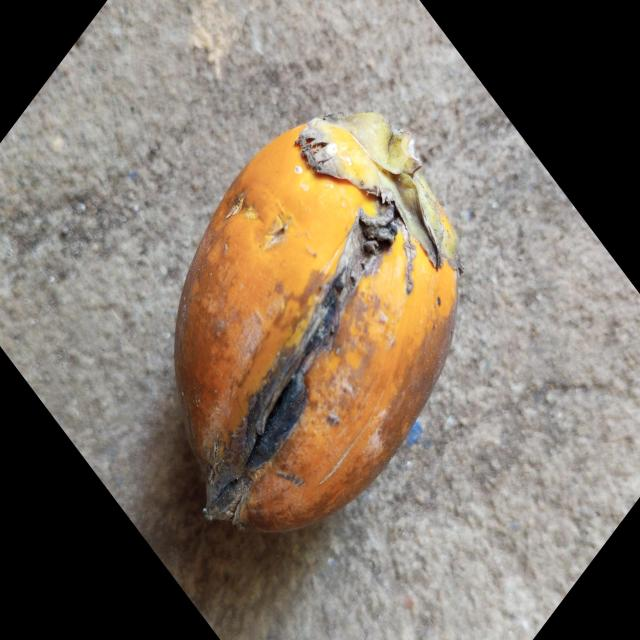damaged: (175, 113, 459, 531)
